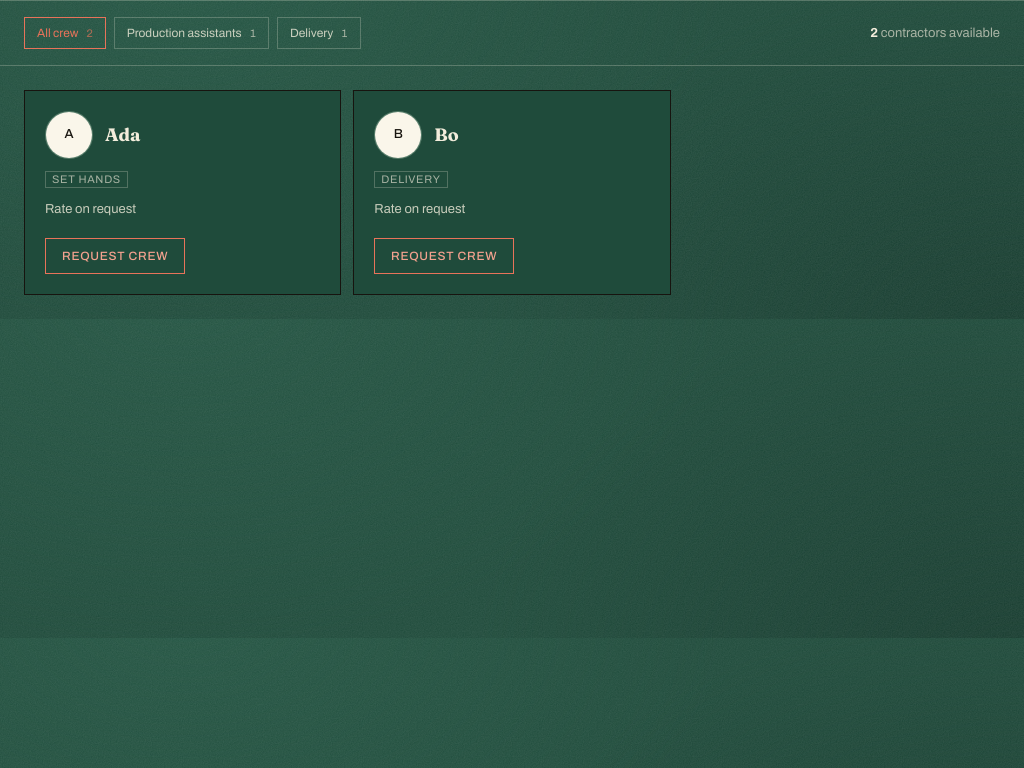
Test case: CrewDirectory › uses the singular noun for one match
What coordinates should you click on to do the following:
click the button "Production assistants 1"
I would click on:
 (191, 33)
Its box is [114,17,269,49].
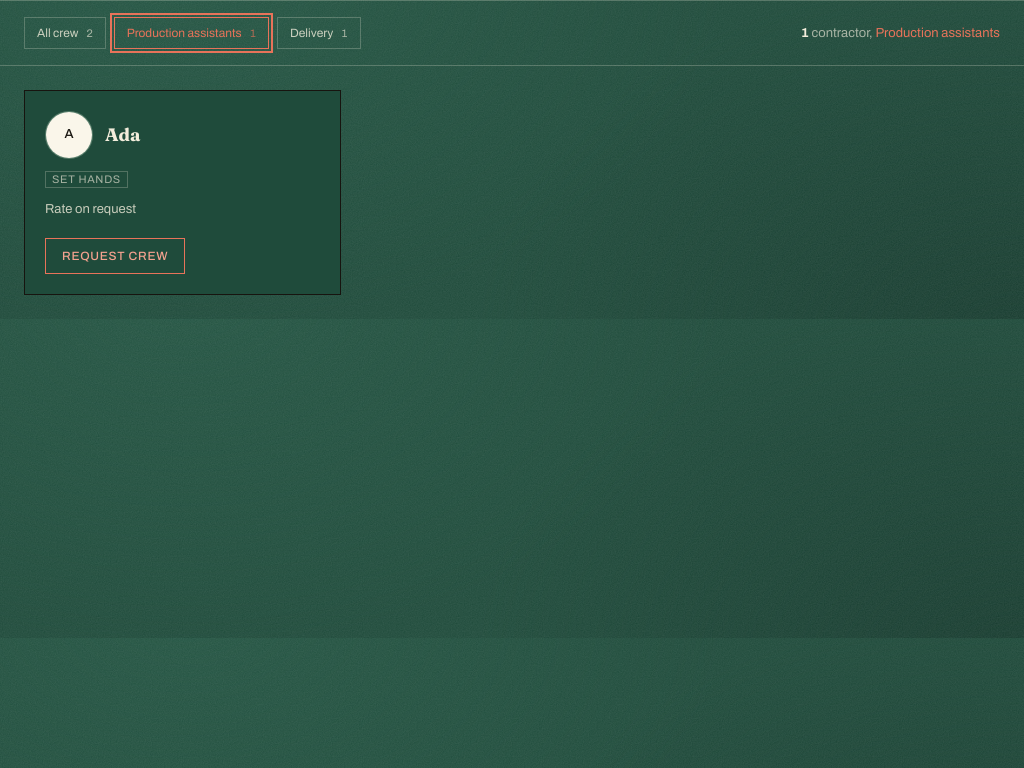
Expected: the text "contractor" is shown, [812,26,869,40]
Expected: the text "contractors" is gone
